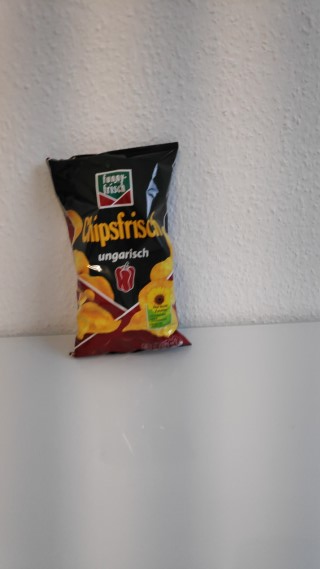chipsfrisch: (44, 140, 193, 360)
